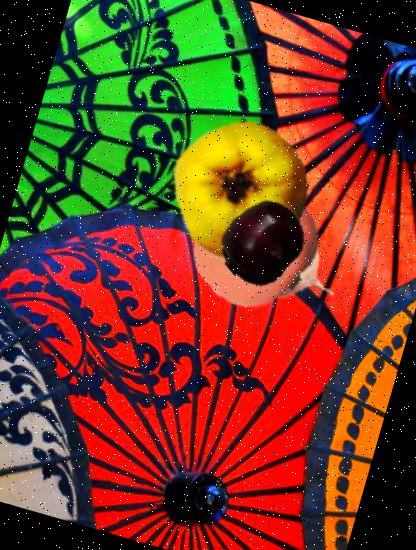Cherry: (210, 190, 316, 296)
Clementine: (178, 166, 335, 323)
Granadilla: (212, 191, 356, 336)
Quince: (155, 102, 332, 278)
